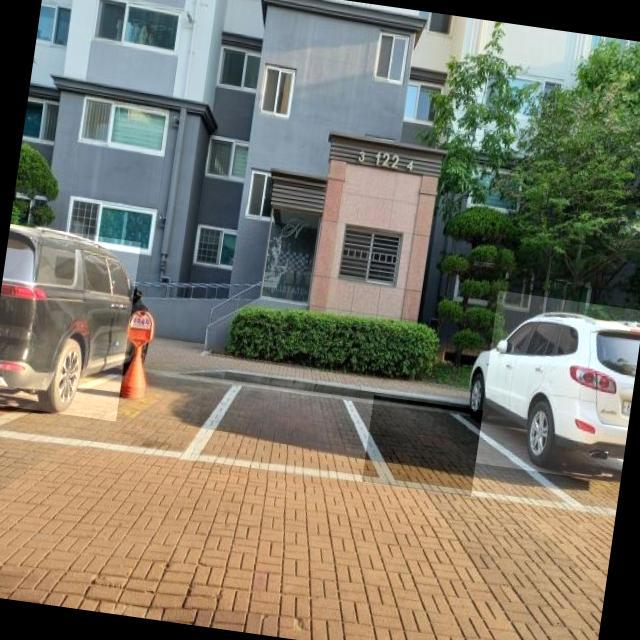empty: (192, 369, 376, 492), (362, 395, 484, 497)
occupied: (474, 290, 640, 483), (0, 224, 141, 422)
